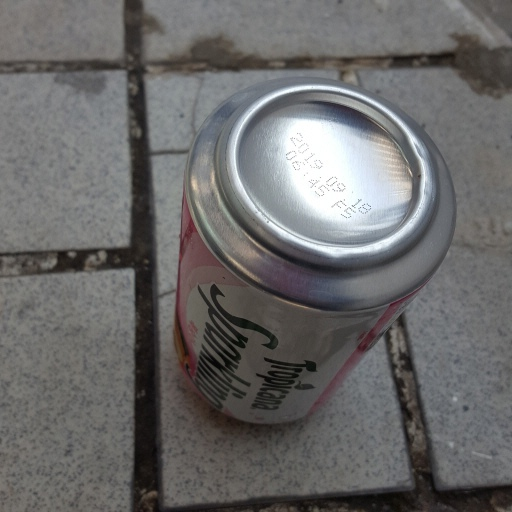Metal_0: (172, 76, 457, 433)
